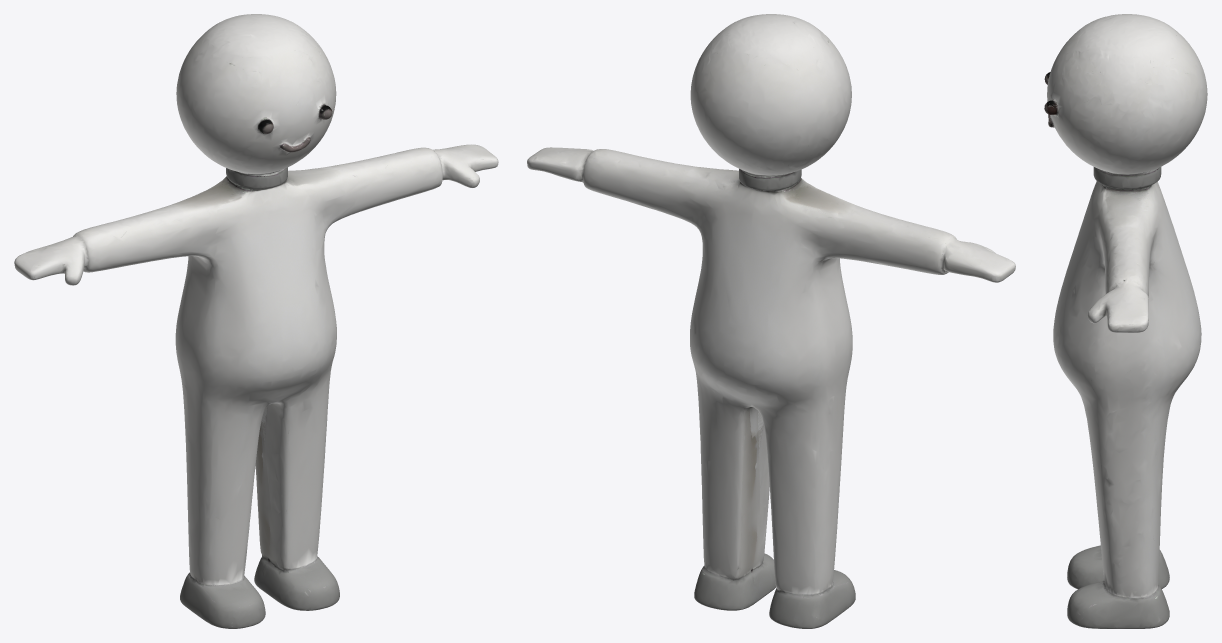
The model's file is agent-idle.glb.
3 views of the same model, side by side, from view 1: azimuth 30°, elevation 25°; view 2: azimuth 150°, elevation 25°; view 3: azimuth 270°, elevation 25° (orthographic).
Parts seen in each view (by area): view 1: Mesh_0; view 2: Mesh_0; view 3: Mesh_0.
Part boxes in pixels (box(x1,y1,x2,y2)): Mesh_0: box(14, 14, 498, 628); Mesh_0: box(527, 14, 1015, 628); Mesh_0: box(1044, 14, 1207, 628).
Size of the model in its own units: 1.64 by 1.91 by 0.4913.
1 material, 1 textured.
